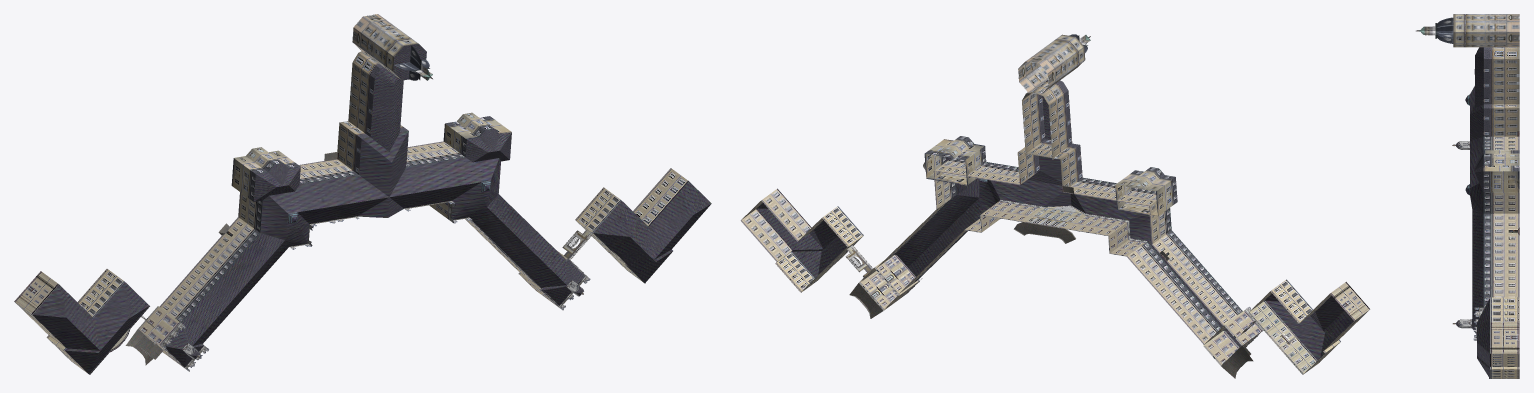
Rendered from DEU_062_KARLSRUHE_KARLSRU_S.OBJ.
The picture shows the model from 3 angles, left to right: view 1: azimuth 30°, elevation 25°; view 2: azimuth 150°, elevation 25°; view 3: azimuth 270°, elevation 25°; orthographic projection. The views are drawn at different scales.
Visible parts, largest first — view 1: DEU_062_KARLSRUHE_KARLSRU_S; view 2: DEU_062_KARLSRUHE_KARLSRU_S; view 3: DEU_062_KARLSRUHE_KARLSRU_S.
Boxes of the visible parts, <box> form: DEU_062_KARLSRUHE_KARLSRU_S: <box>14,14,711,374</box>; DEU_062_KARLSRUHE_KARLSRU_S: <box>740,34,1369,378</box>; DEU_062_KARLSRUHE_KARLSRU_S: <box>1416,14,1519,378</box>.
Bounding box in the file's own units: 258 × 119 × 48.31.
Materials: 1 (1 with a texture image).
